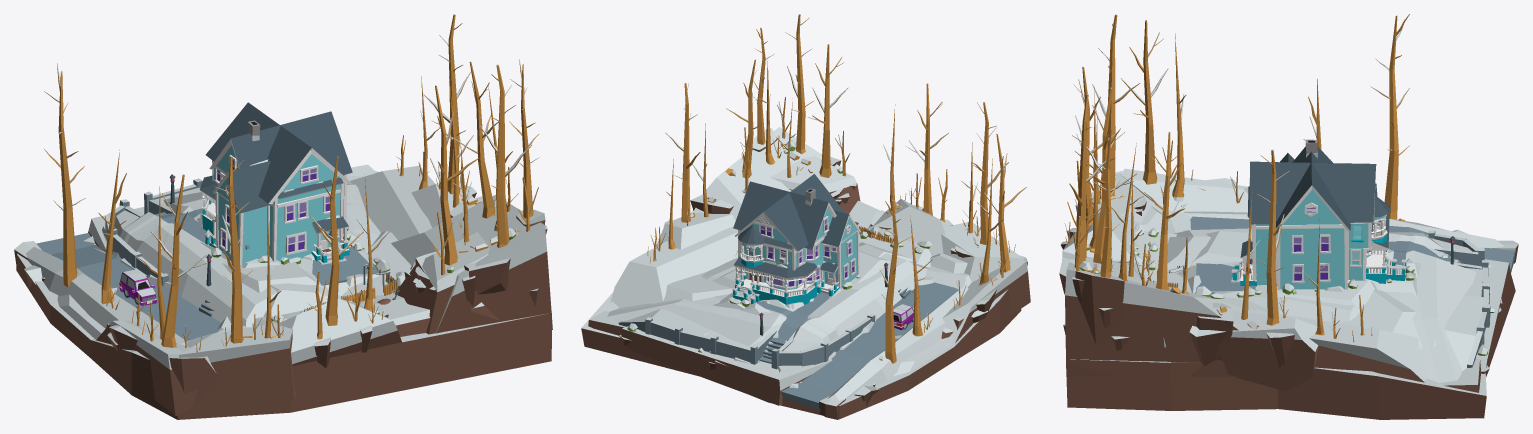
Rendered from beaks.glb.
3 views of the same model, side by side, from view 1: azimuth 30°, elevation 25°; view 2: azimuth 150°, elevation 25°; view 3: azimuth 270°, elevation 25° (orthographic). The views are drawn at different scales.
Visible parts, largest first — view 1: group2060585404, group1504191420, group101140434, group154548097, group231707998, group1624478577, group1617572247, group990022888, group1108866900, group1472510813, group1355921627, group1374377478 (+24 smaller); view 2: group2060585404, group154548097, group1504191420, group1742717586, group1617572247, group1108866900, group990022888, group101140434, group1355921627, group1624478577, group231707998, group1472510813 (+26 smaller); view 3: group2060585404, group1504191420, group101140434, group154548097, group1280178183, group1617572247, group1355921627, group1145969062, group1742717586, group121120412, group1374377478, group1196403785 (+29 smaller).
Boxes of the visible parts, left/top/right/bottom form: group2060585404: left=196, top=102, right=352, bottom=267; group1504191420: left=16, top=171, right=551, bottom=419; group101140434: left=391, top=195, right=552, bottom=333; group154548097: left=112, top=175, right=380, bottom=327; group231707998: left=179, top=323, right=296, bottom=413; group1624478577: left=277, top=298, right=401, bottom=365; group1617572247: left=347, top=165, right=435, bottom=240; group990022888: left=25, top=247, right=187, bottom=345; group1108866900: left=52, top=245, right=220, bottom=340; group1472510813: left=395, top=231, right=490, bottom=334; group1355921627: left=96, top=320, right=198, bottom=416; group1374377478: left=44, top=63, right=85, bottom=287; group2060585404: left=729, top=174, right=860, bottom=309; group154548097: left=606, top=253, right=928, bottom=359; group1504191420: left=581, top=289, right=1021, bottom=419; group1742717586: left=621, top=326, right=832, bottom=405; group1617572247: left=610, top=226, right=737, bottom=307; group1108866900: left=801, top=282, right=958, bottom=391; group990022888: left=827, top=285, right=968, bottom=400; group101140434: left=693, top=127, right=842, bottom=220; group1355921627: left=942, top=259, right=1030, bottom=343; group1624478577: left=867, top=199, right=950, bottom=256; group231707998: left=941, top=222, right=1022, bottom=281; group1472510813: left=770, top=156, right=860, bottom=213; group2060585404: left=1231, top=139, right=1415, bottom=289; group1504191420: left=1066, top=359, right=1486, bottom=419; group101140434: left=1065, top=262, right=1242, bottom=376; group154548097: left=1173, top=228, right=1476, bottom=382; group1280178183: left=1218, top=310, right=1318, bottom=391; group1617572247: left=1228, top=305, right=1427, bottom=382; group1355921627: left=1121, top=168, right=1248, bottom=212; group1145969062: left=1075, top=271, right=1124, bottom=344; group1742717586: left=1475, top=259, right=1515, bottom=370; group121120412: left=1338, top=289, right=1422, bottom=349; group1374377478: left=1370, top=14, right=1409, bottom=219; group1196403785: left=1434, top=295, right=1483, bottom=371.
Bounding box in the file's own units: 6.01 × 4.4 × 6.26.
